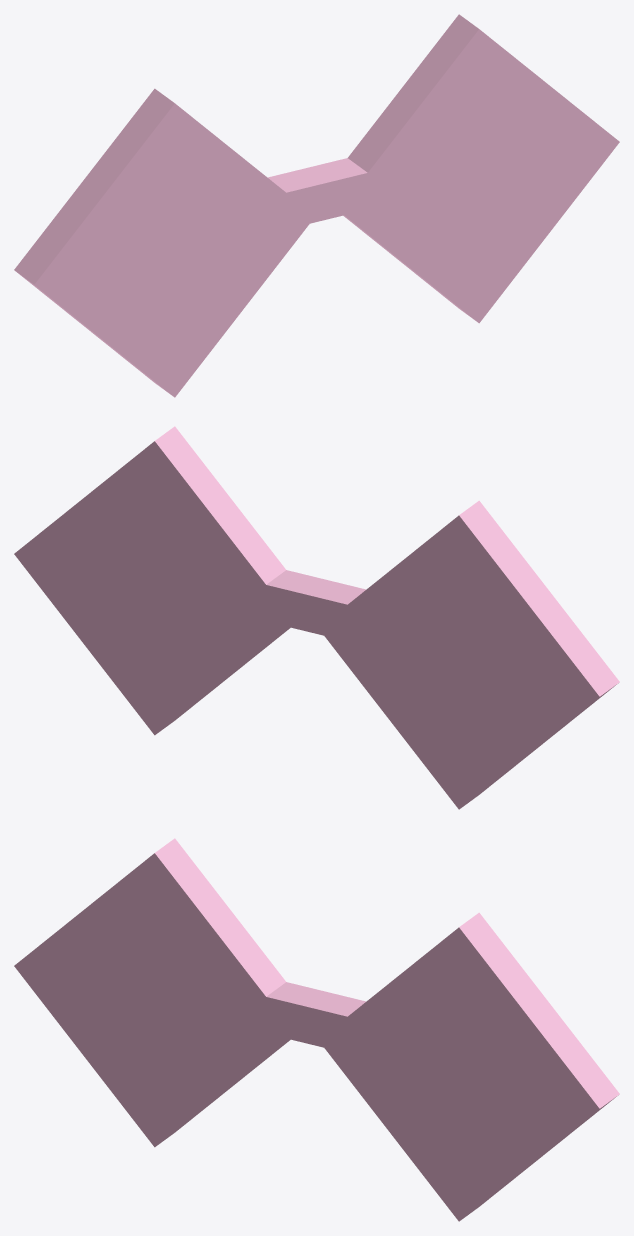
Rendered from star_shades.glb.
The picture shows the model from 3 angles, top to bottom: view 1: azimuth 30°, elevation 25°; view 2: azimuth 150°, elevation 25°; view 3: azimuth 330°, elevation 25°; orthographic projection.
Parts seen in each view (by area): view 1: Star Shades; view 2: Star Shades; view 3: Star Shades.
Part boxes in pixels (left/top/right/bottom): Star Shades: left=14, top=14, right=619, bottom=397; Star Shades: left=14, top=426, right=619, bottom=809; Star Shades: left=14, top=838, right=619, bottom=1221.
Size of the model in its own units: 0.5004 by 0.2404 by 0.03.
